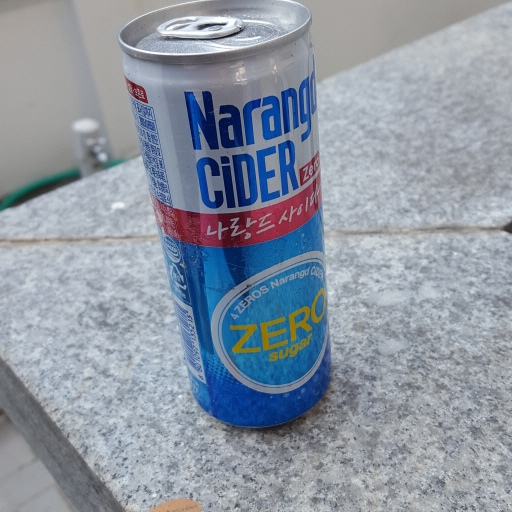Metal_0: (117, 1, 334, 435)
